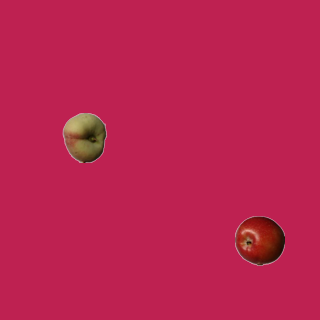Apple Braeburn: (234, 215, 284, 265)
Peach Flat: (59, 112, 109, 162)
